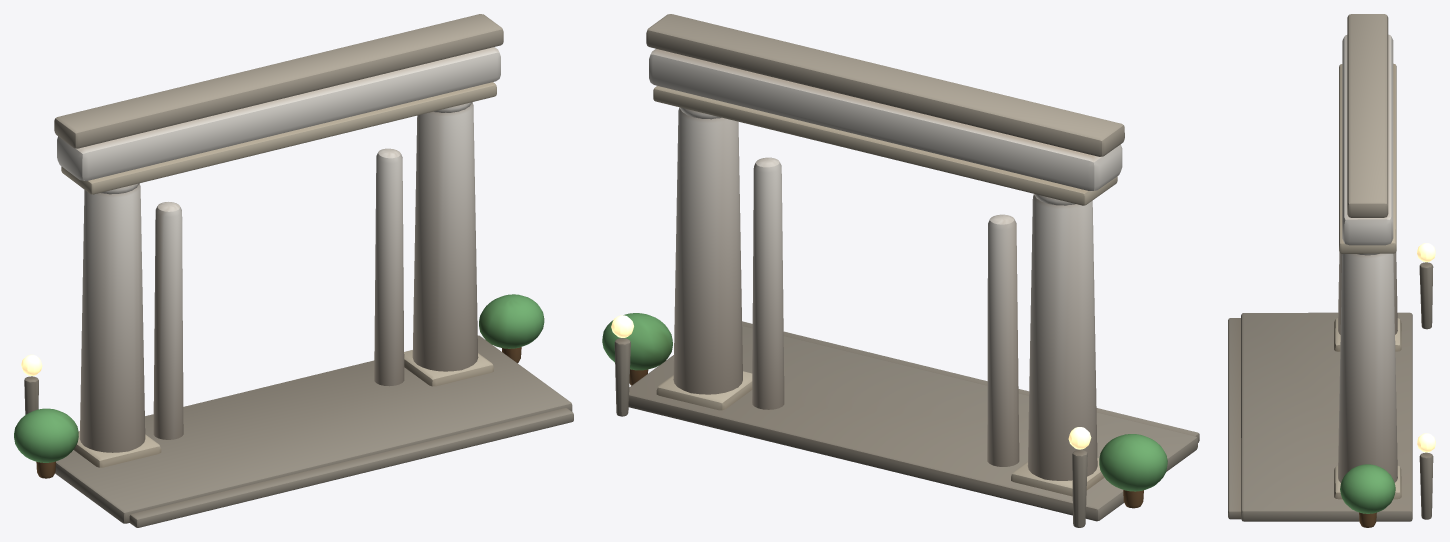
The picture shows the model from 3 angles, left to right: view 1: azimuth 30°, elevation 25°; view 2: azimuth 150°, elevation 25°; view 3: azimuth 270°, elevation 25°; orthographic projection. The views are drawn at different scales.
Parts seen in each view (by area): view 1: gate_17b1af27; view 2: gate_17b1af27; view 3: gate_17b1af27.
Boxes of the visible parts, x1,y1,x2,y2 form: gate_17b1af27: [14, 14, 573, 527]; gate_17b1af27: [602, 14, 1199, 527]; gate_17b1af27: [1228, 14, 1435, 527].
Bounding box in the file's own units: 6.72 × 4.27 × 2.54.
